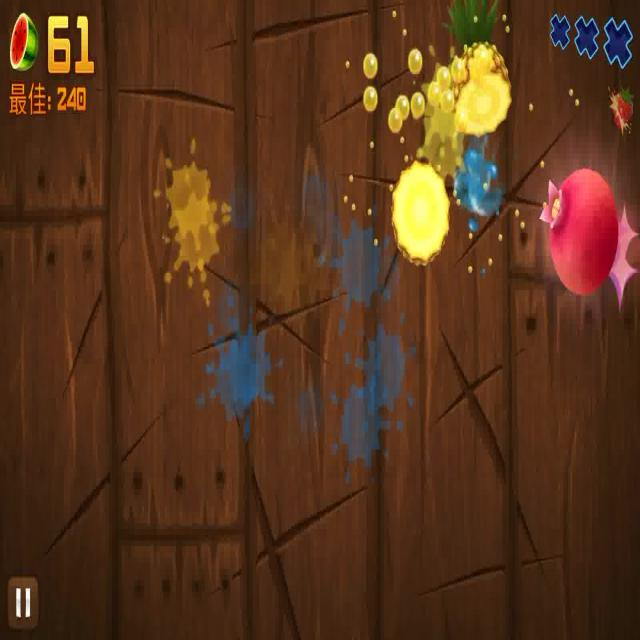fruit: (538, 156, 624, 318), (436, 0, 515, 140), (385, 148, 451, 270)
